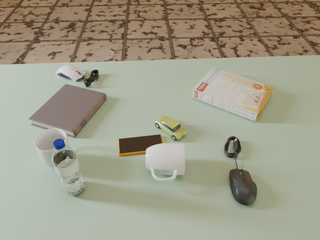book: (29, 84, 106, 138)
bottle: (52, 139, 85, 196)
box: (193, 67, 273, 121)
cup: (146, 143, 185, 182), (35, 128, 70, 169)
mouse: (229, 169, 257, 205), (56, 65, 85, 81)
phone: (118, 134, 163, 156)
toy_car: (155, 116, 186, 141)
